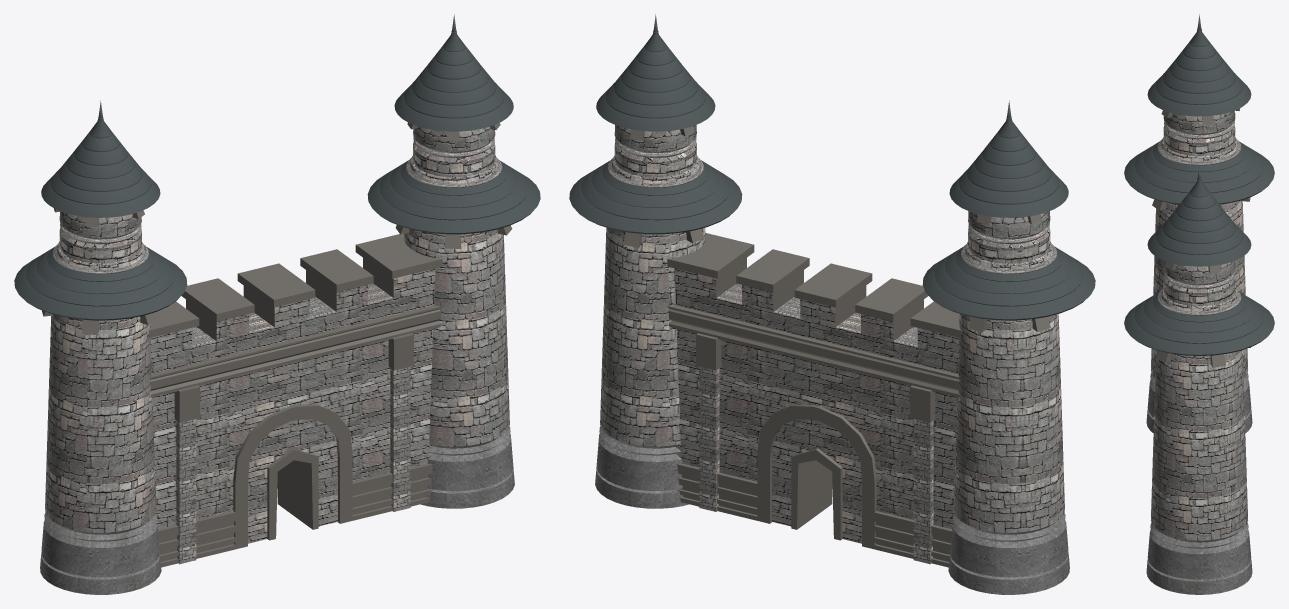
The model's file is keepgate.glb.
The picture shows the model from 3 angles, left to right: view 1: azimuth 30°, elevation 25°; view 2: azimuth 150°, elevation 25°; view 3: azimuth 270°, elevation 25°; orthographic projection. The views are drawn at different scales.
Parts seen in each view (by area): view 1: Tower_stone_0, Wall_angle_0, Roof_Roof_0, Tower_Cement_0; view 2: Tower_stone_0, Wall_angle_0, Roof_Roof_0, Tower_Cement_0; view 3: Tower_stone_0, Roof_Roof_0, Tower_Cement_0, Wall_angle_0.
Boxes of the visible parts, x1,y1,x2,y2 form: Tower_stone_0: (45, 126, 509, 564); Wall_angle_0: (42, 122, 512, 567); Roof_Roof_0: (14, 14, 540, 320); Tower_Cement_0: (40, 426, 514, 594); Tower_stone_0: (600, 125, 1064, 564); Wall_angle_0: (623, 126, 1050, 567); Roof_Roof_0: (569, 14, 1095, 320); Tower_Cement_0: (595, 426, 1069, 594); Tower_stone_0: (1151, 110, 1247, 540); Roof_Roof_0: (1124, 14, 1274, 355); Tower_Cement_0: (1146, 373, 1252, 594); Wall_angle_0: (1152, 108, 1250, 367).
Bounding box in the file's own units: 12.01 × 10.7 × 3.58.
Materials: 4 (2 with a texture image).
